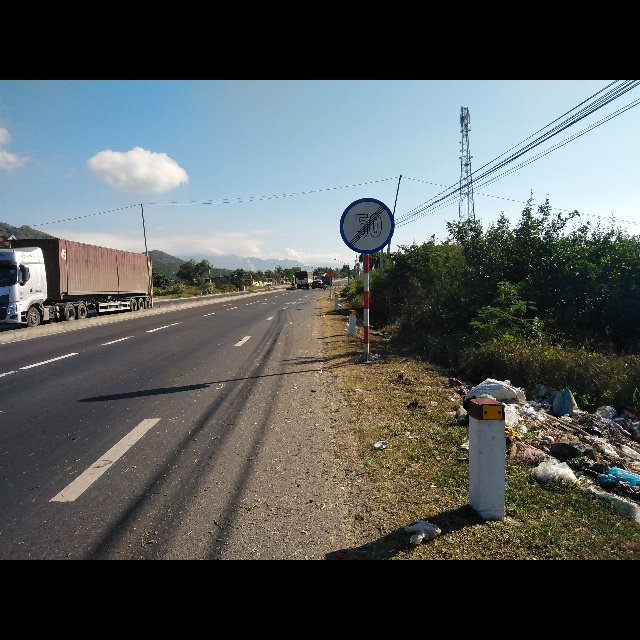Hết hạn chế tốc độ tối đa 50km/h: (338, 195, 396, 255)
